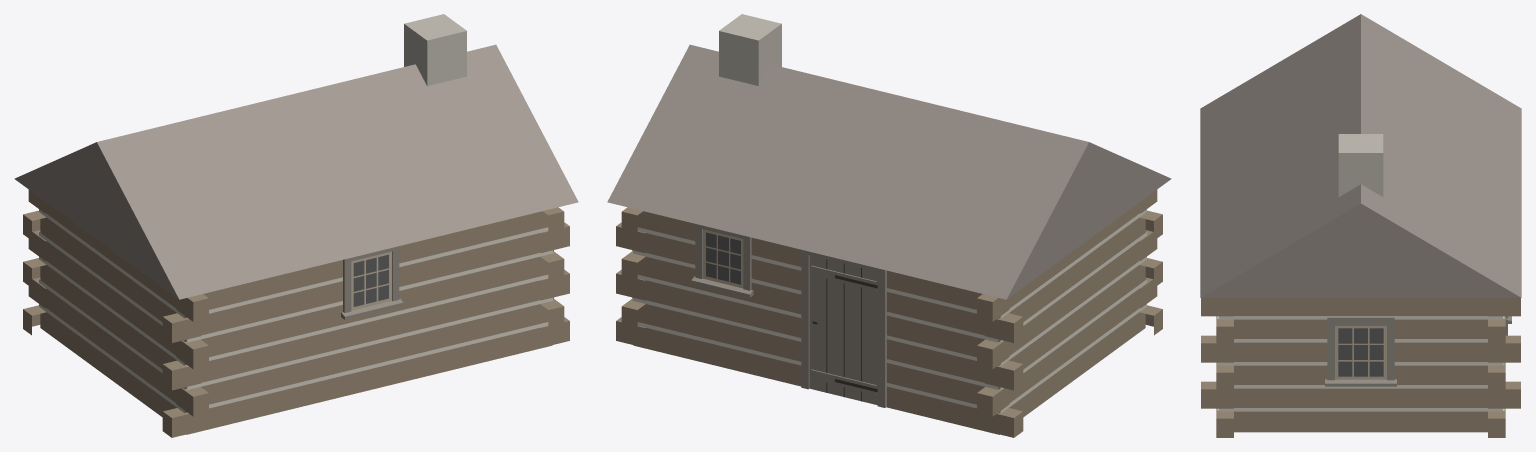
The model's file is kinzie_bake_house_1812__kinzie_1804.glb.
The picture shows the model from 3 angles, left to right: view 1: azimuth 30°, elevation 25°; view 2: azimuth 150°, elevation 25°; view 3: azimuth 270°, elevation 25°; orthographic projection. The views are drawn at different scales.
Visible parts, largest first — view 1: kinzie_bake_house_1812__kinzie_1804; view 2: kinzie_bake_house_1812__kinzie_1804; view 3: kinzie_bake_house_1812__kinzie_1804.
Part boxes in pixels (x1,y1,x2,y2): kinzie_bake_house_1812__kinzie_1804: (14, 14, 578, 437); kinzie_bake_house_1812__kinzie_1804: (607, 14, 1171, 437); kinzie_bake_house_1812__kinzie_1804: (1200, 14, 1521, 437).
Bounding box in the file's own units: 6 × 3.96 × 4.3.
